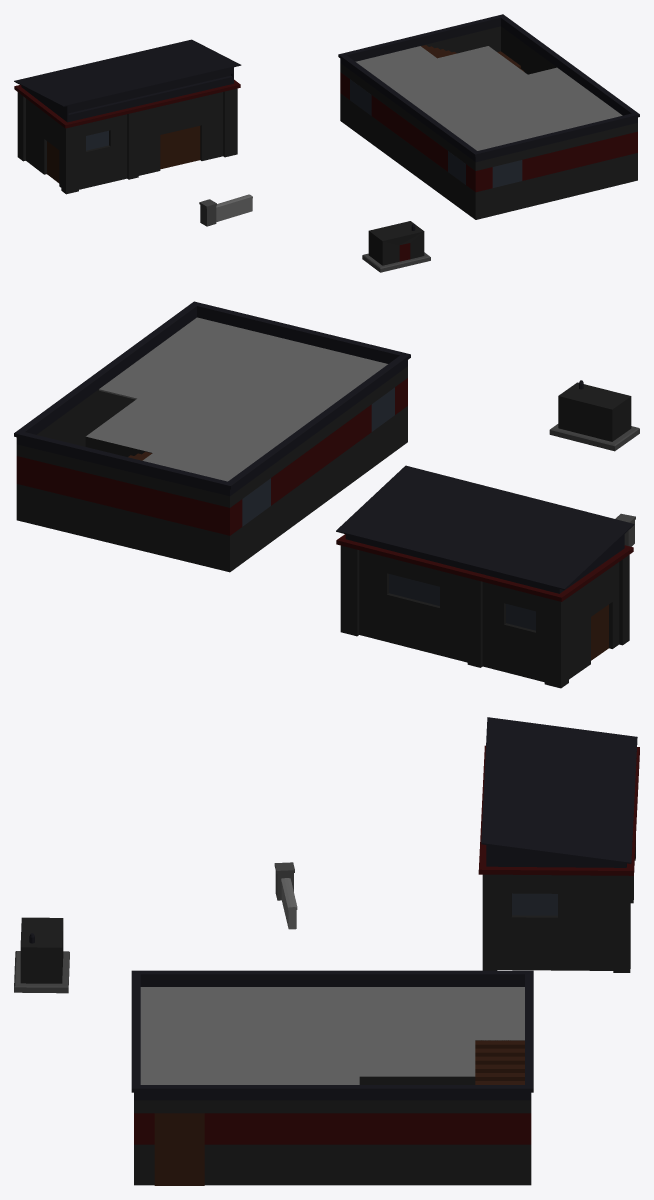
File: SetDeCasitas.FBX
The picture shows the model from 3 angles, top to bottom: view 1: azimuth 30°, elevation 25°; view 2: azimuth 150°, elevation 25°; view 3: azimuth 270°, elevation 25°; orthographic projection. The views are drawn at different scales.
Parts seen in each view (by area): view 1: Cube, house, Body, Wall, Pillar; view 2: Cube, house, Body; view 3: Cube, house, Body.
Boxes of the visible parts, x1=… form: Cube: x1=338, y1=14, x2=639, y2=219; house: x1=14, y1=39, x2=241, y2=194; Body: x1=362, y1=221, x2=430, y2=272; Wall: x1=216, y1=194, x2=252, y2=221; Pillar: x1=199, y1=199, x2=216, y2=226; Cube: x1=14, y1=301, x2=410, y2=572; house: x1=336, y1=465, x2=634, y2=688; Body: x1=549, y1=380, x2=639, y2=451; Cube: x1=131, y1=970, x2=533, y2=1185; house: x1=478, y1=717, x2=639, y2=972; Body: x1=14, y1=917, x2=69, y2=993.
Size of the model in its own units: 87.76 by 17.95 by 71.11.
